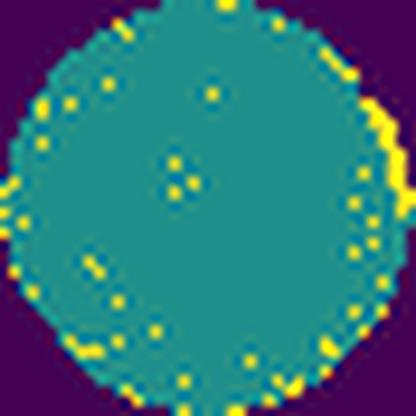Edge-Loc: (356, 92, 416, 223)
